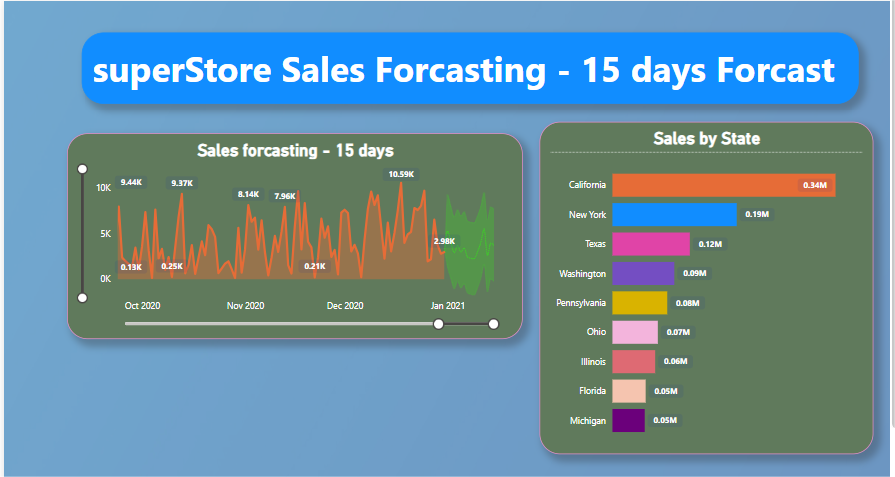

What the dashboard file says about the page in this screenshot:
{"tool":"powerbi","page":{"name":"Sales Forcast","canvas":[1280,720],"ordinal":2},"visuals":[{"type":"lineChart","title":"Sales forcasting - 15 days","fields":{"Y":["Sum(Sheet1.Sales)"],"Category":["Sheet1.Order Date.Variation.Date Hierarchy.Year","Sheet1.Order Date.Variation.Date Hierarchy.Quarter","Sheet1.Order Date.Variation.Date Hierarchy.Month","Sheet1.Order Date.Variation.Date Hierarchy.Day"]},"box":[85.7,180,620,280],"z":0},{"type":"textbox","box":[105.7,42.9,1057.1,97.1],"z":1000},{"type":"clusteredBarChart","title":"Sales by State","fields":{"Y":["Sum(Sheet1.Sales)"],"Category":["Sheet1.State"]},"box":[728.6,164.3,454.3,452.9],"z":1001}]}

Visuals, with their boxes on the page's 1280x720 design canvas (x1, y1, x2, y2). These are canvas units, not pixel positions in the 895x477 screenshot, which may show the page scaled, cropped or inside an application window:
"Sales forcasting - 15 days" lineChart: 86,180,706,460
textbox: 106,43,1163,140
"Sales by State" clusteredBarChart: 729,164,1183,617
